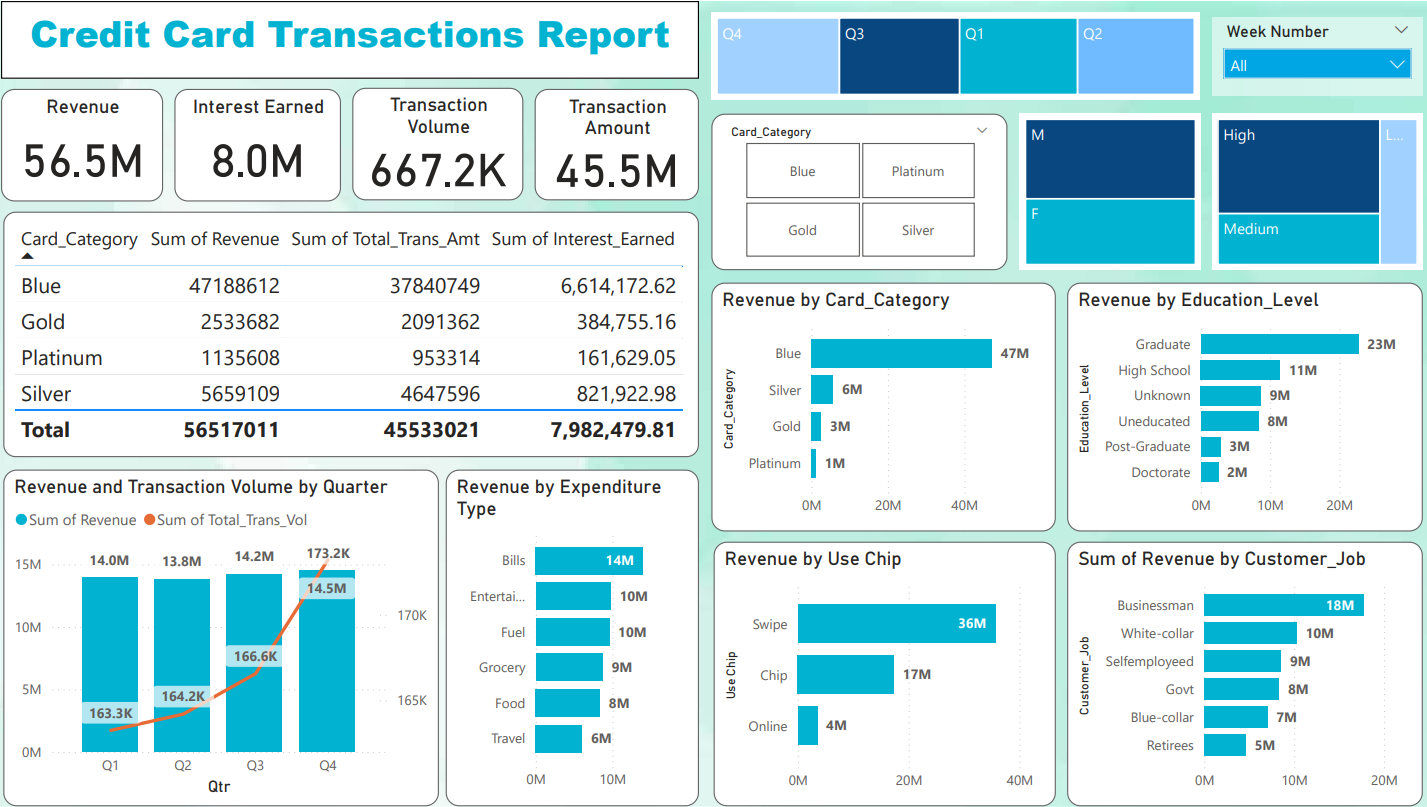

What the dashboard file says about the page in this screenshot:
{"tool":"powerbi","page":{"name":"cc_detail","canvas":[1280,720],"ordinal":0},"visuals":[{"type":"textbox","box":[8.2,0,620.2,68.6],"z":0},{"type":"lineStackedColumnComboChart","title":"Revenue and Transaction Volume by Quarter","fields":{"Category":["ccdb cc_detail.Qtr"],"Y":["Sum(ccdb cc_detail.Revenue)"],"Y2":["Sum(ccdb cc_detail.Total_Trans_Vol)"]},"box":[9.6,415.8,387,299.1],"z":1000},{"type":"barChart","title":"Revenue by Expenditure Type","fields":{"Category":["ccdb cc_detail.Exp Type"],"Y":["Sum(ccdb cc_detail.Revenue)"]},"box":[403.4,415.8,225,299.1],"z":2000},{"type":"barChart","title":"Revenue by Education_Level","fields":{"Category":["ccdb cust_detail.Education_Level"],"Y":["Sum(ccdb cc_detail.Revenue)"]},"box":[955.1,249.7,315.6,220.9],"z":3000},{"type":"barChart","fields":{"Category":["ccdb cust_detail.Customer_Job"],"Y":["Sum(ccdb cc_detail.Revenue)"]},"box":[955.1,480.3,315.6,234.6],"z":4000},{"type":"barChart","title":"Revenue by Use Chip","fields":{"Category":["ccdb cc_detail.Use Chip"],"Y":["Sum(ccdb cc_detail.Revenue)"]},"box":[640.8,480.3,304.6,234.6],"z":5000},{"type":"barChart","title":"Revenue by Card_Category","fields":{"Category":["ccdb cc_detail.Card_Category"],"Y":["Sum(ccdb cc_detail.Revenue)"]},"box":[639.5,249.7,306,220.9],"z":6000},{"type":"tableEx","fields":{"Values":["ccdb cc_detail.Card_Category","Sum(ccdb cc_detail.Revenue)","Sum(ccdb cc_detail.Total_Trans_Amt)","Sum(ccdb cc_detail.Interest_Earned)"]},"box":[9.6,186.6,618.9,218.2],"z":7000},{"type":"card","title":"Revenue","fields":{"Values":["Sum(ccdb cc_detail.Revenue)"]},"box":[8.2,78.2,144.1,100.2],"z":8000},{"type":"card","title":"Interest Earned","fields":{"Values":["Sum(ccdb cc_detail.Interest_Earned)"]},"box":[161.9,78.2,148.2,100.2],"z":9000},{"type":"card","title":"Transaction Amount","fields":{"Values":["Sum(ccdb cc_detail.Total_Trans_Amt)"]},"box":[481.6,78.2,146.8,98.8],"z":10000},{"type":"card","title":"Transaction Volume","fields":{"Values":["Sum(ccdb cc_detail.Total_Trans_Vol)"]},"box":[319.7,76.8,152.3,100.2],"z":11000},{"type":"treemap","fields":{"Group":["ccdb cust_detail.Gender"],"Values":["Sum(ccdb cc_detail.Revenue)"]},"box":[912.5,100.2,161.9,138.6],"z":12000},{"type":"treemap","fields":{"Group":["ccdb cc_detail.Qtr"],"Values":["Sum(ccdb cc_detail.Revenue)"]},"box":[639.5,9.6,433.6,78.2],"z":13000},{"type":"slicer","fields":{"Values":["ccdb cc_detail.Card_Category"]},"box":[639.5,100.2,262.1,138.6],"z":14000},{"type":"treemap","fields":{"Group":["ccdb cust_detail.Income_Group"],"Values":["Sum(ccdb cc_detail.Revenue)"]},"box":[1084.1,100.2,186.6,138.6],"z":15000},{"type":"slicer","fields":{"Values":["ccdb cc_detail.Week_Num2"]},"box":[1084.1,13.7,186.6,70],"z":15001}]}

Visuals, with their boxes in screenshot pixels (x1, y1, x2, y2), scaled from the page's 1280x720 canvas onto the 1427x807 screenshot:
textbox: {"left": 9, "top": 0, "right": 701, "bottom": 77}
"Revenue and Transaction Volume by Quarter" lineStackedColumnComboChart: {"left": 11, "top": 466, "right": 442, "bottom": 801}
"Revenue by Expenditure Type" barChart: {"left": 450, "top": 466, "right": 701, "bottom": 801}
"Revenue by Education_Level" barChart: {"left": 1065, "top": 280, "right": 1417, "bottom": 527}
barChart - ccdb cust_detail.Customer_Job x Sum(ccdb cc_detail.Revenue): {"left": 1065, "top": 538, "right": 1417, "bottom": 801}
"Revenue by Use Chip" barChart: {"left": 714, "top": 538, "right": 1054, "bottom": 801}
"Revenue by Card_Category" barChart: {"left": 713, "top": 280, "right": 1054, "bottom": 527}
tableEx - ccdb cc_detail.Card_Category x Sum(ccdb cc_detail.Revenue): {"left": 11, "top": 209, "right": 701, "bottom": 454}
"Revenue" card: {"left": 9, "top": 88, "right": 170, "bottom": 200}
"Interest Earned" card: {"left": 180, "top": 88, "right": 346, "bottom": 200}
"Transaction Amount" card: {"left": 537, "top": 88, "right": 701, "bottom": 198}
"Transaction Volume" card: {"left": 356, "top": 86, "right": 526, "bottom": 198}
treemap - ccdb cust_detail.Gender x Sum(ccdb cc_detail.Revenue): {"left": 1017, "top": 112, "right": 1198, "bottom": 268}
treemap - ccdb cc_detail.Qtr x Sum(ccdb cc_detail.Revenue): {"left": 713, "top": 11, "right": 1196, "bottom": 98}
slicer - ccdb cc_detail.Card_Category: {"left": 713, "top": 112, "right": 1005, "bottom": 268}
treemap - ccdb cust_detail.Income_Group x Sum(ccdb cc_detail.Revenue): {"left": 1209, "top": 112, "right": 1417, "bottom": 268}
slicer - ccdb cc_detail.Week_Num2: {"left": 1209, "top": 15, "right": 1417, "bottom": 94}
